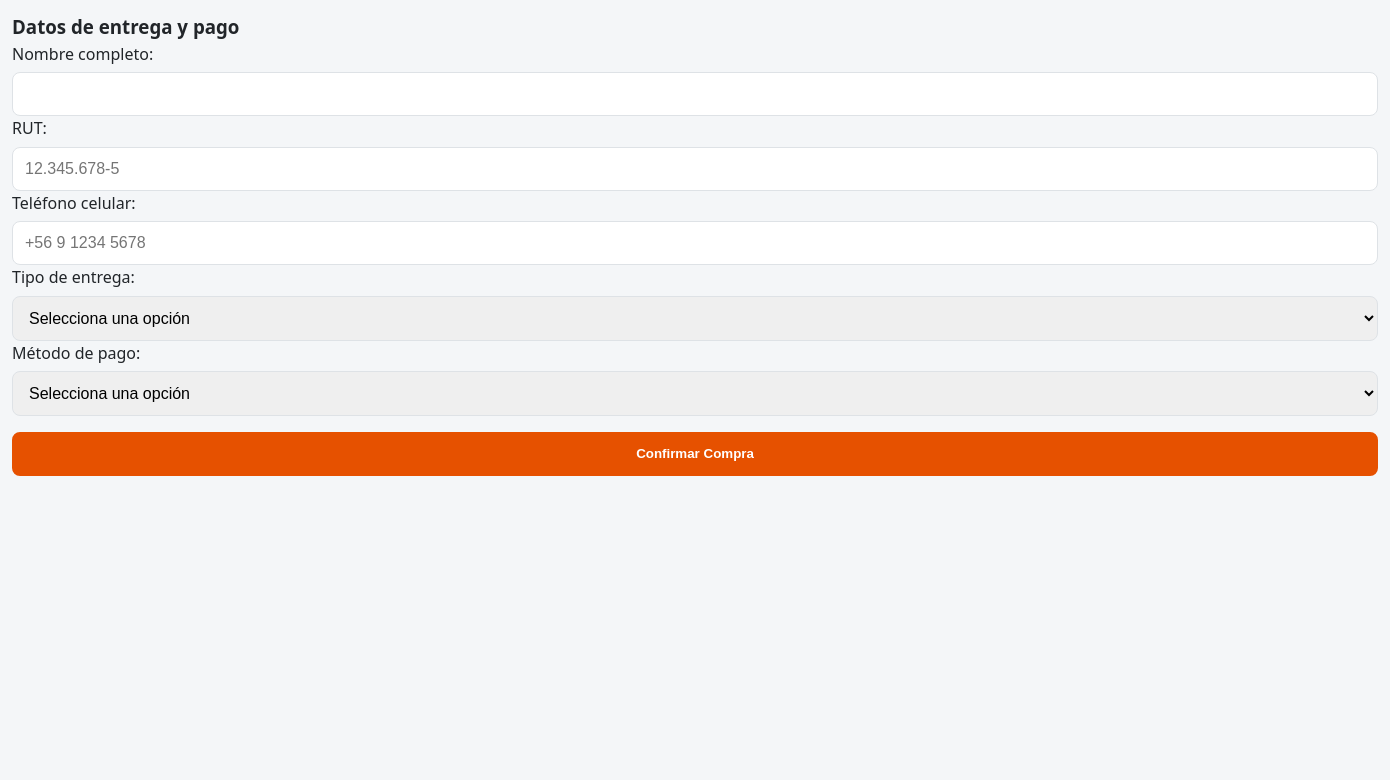
Test case: FormularioCheckout › muestra errores y no confirma cuando el formulario está vacío
The image size is (1390, 780).
Click the button "Confirmar Compra" at (695, 454), box [12,432,1378,476]
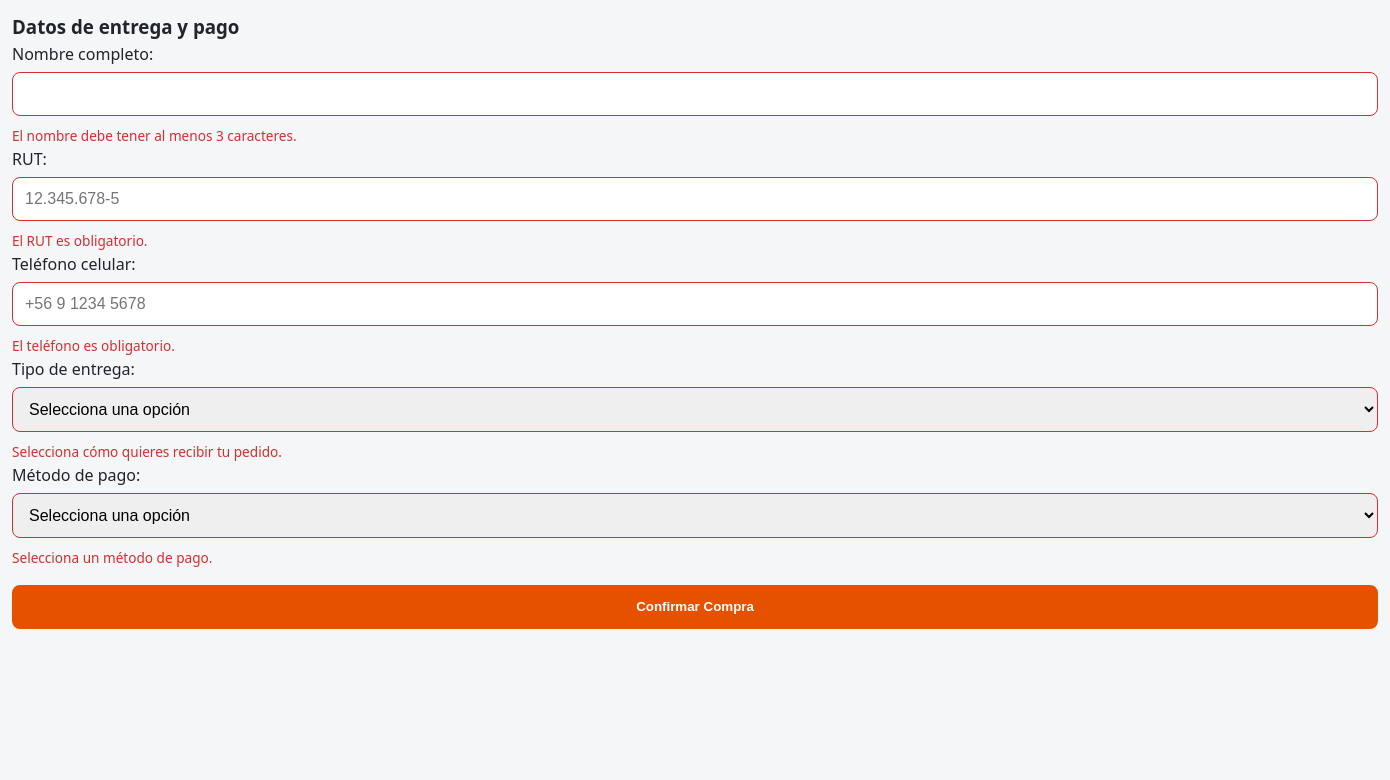
Now the text "Selecciona cómo quieres recibir tu pedido." is shown, box [12,442,282,461]
Now the text "Selecciona un método de pago." is shown, box [12,548,212,567]
